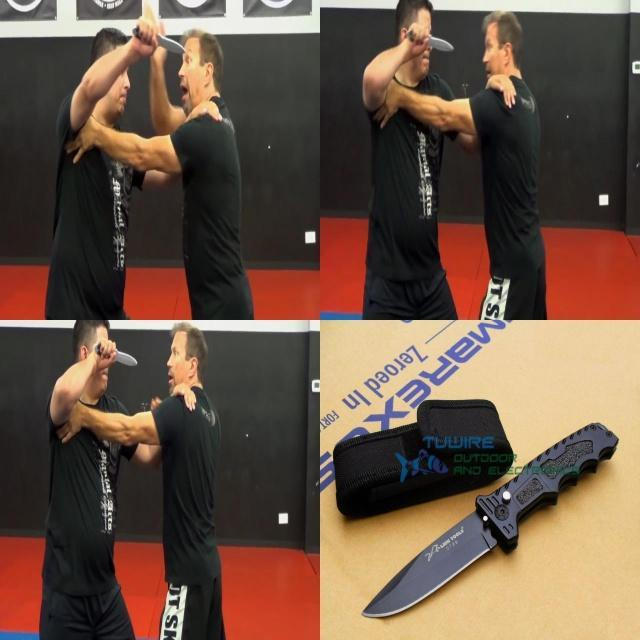-: (357, 509, 498, 621), (129, 14, 186, 56), (405, 19, 456, 55), (91, 336, 138, 369)
